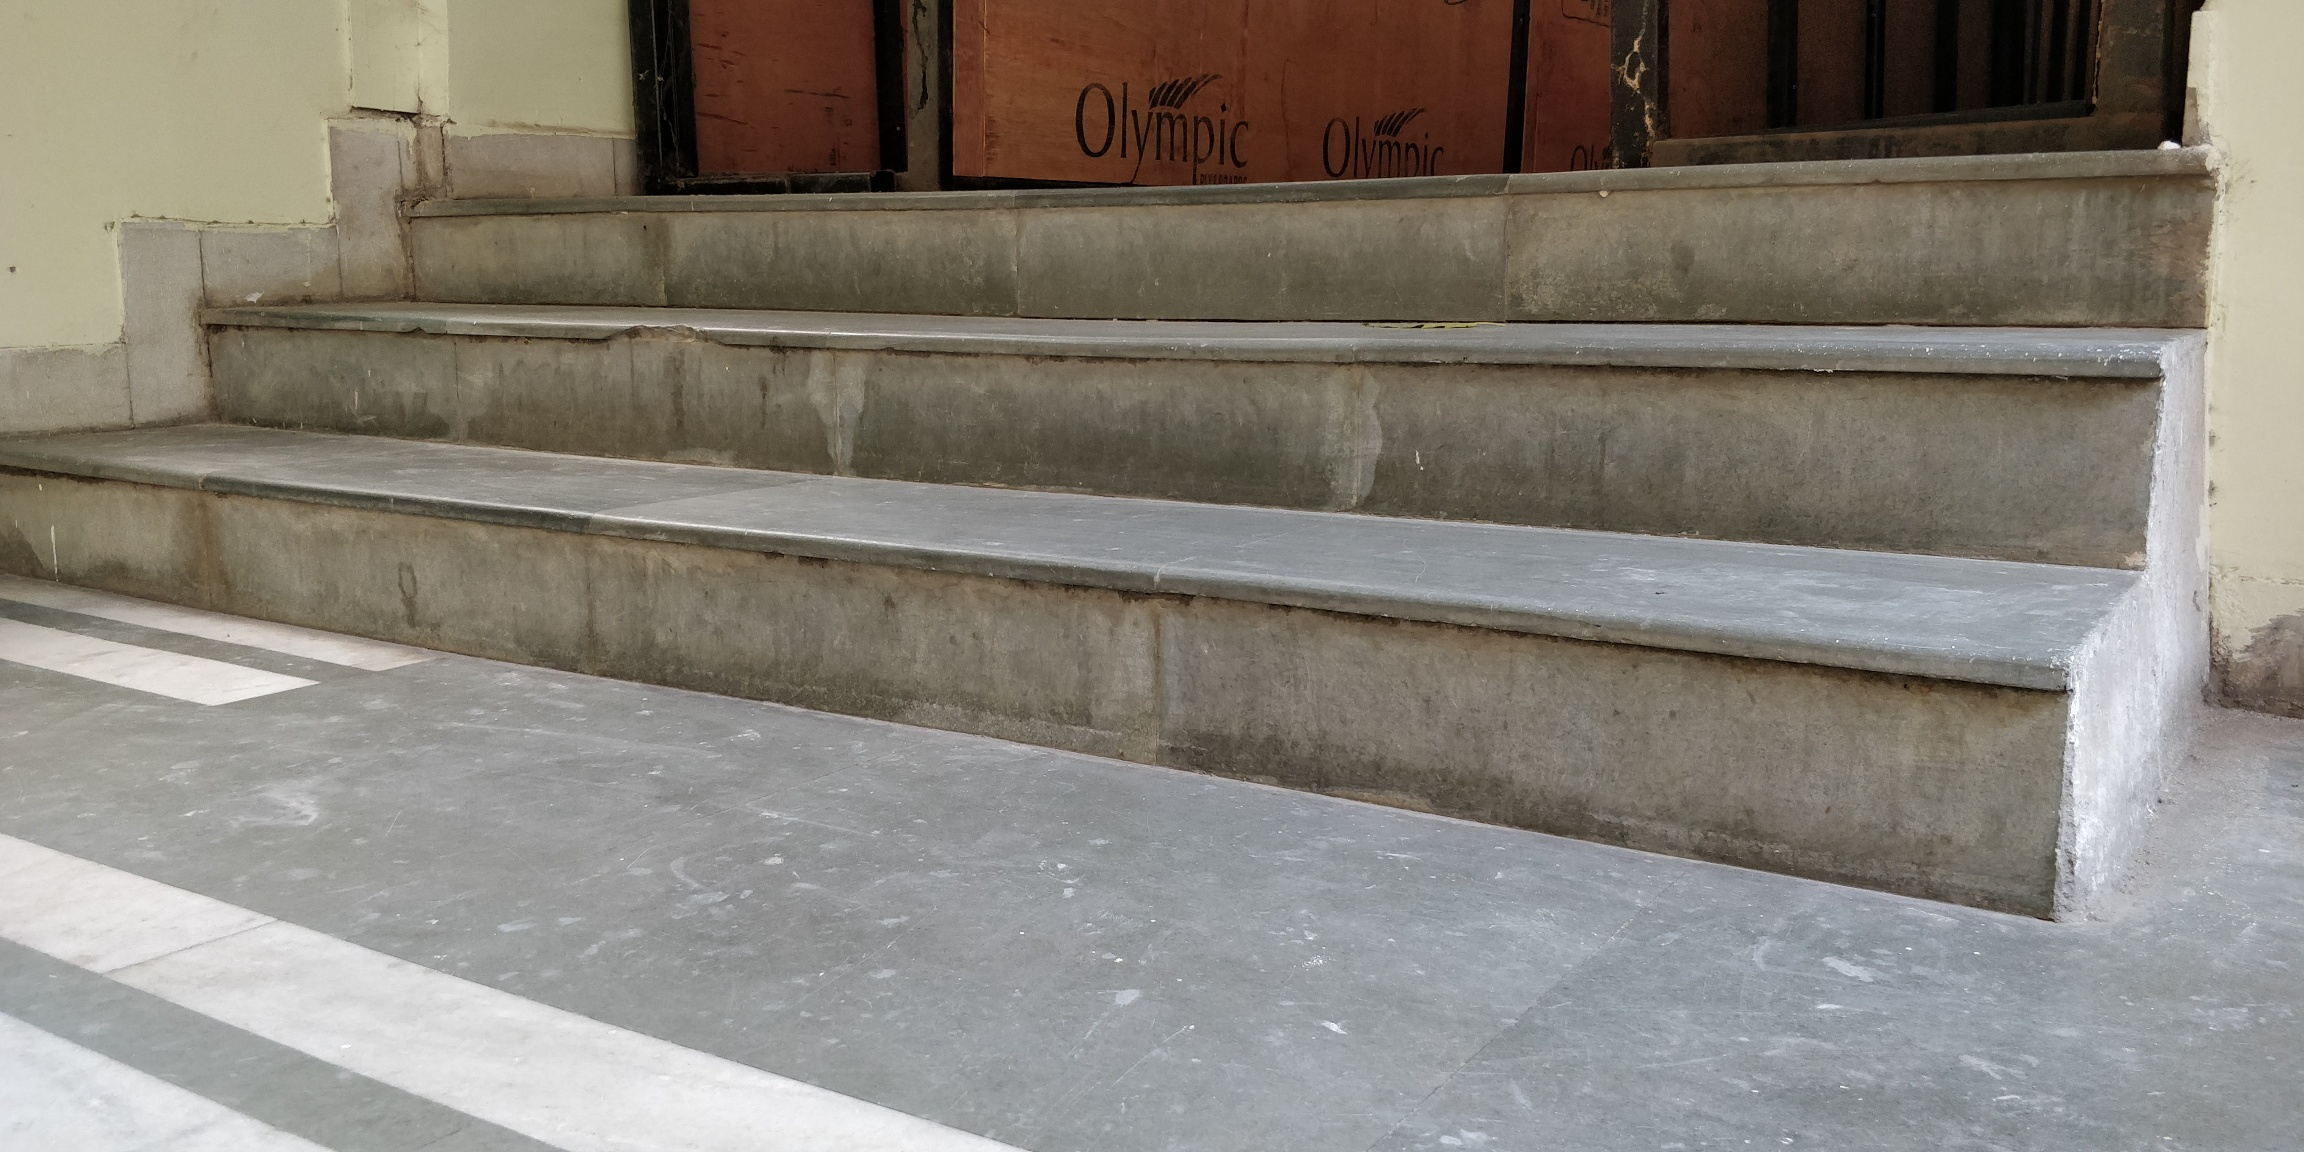stairs_up: (120, 140, 2153, 842)
